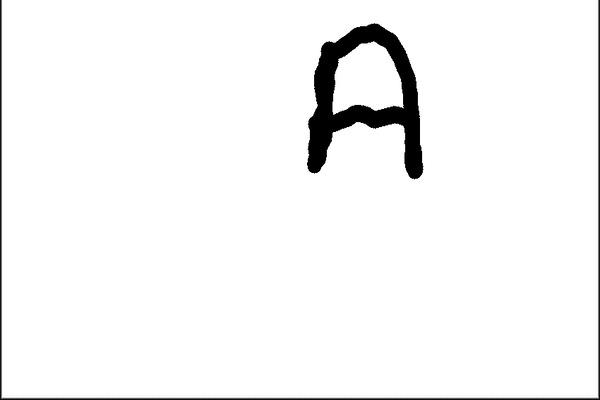A: (292, 13, 429, 185)
